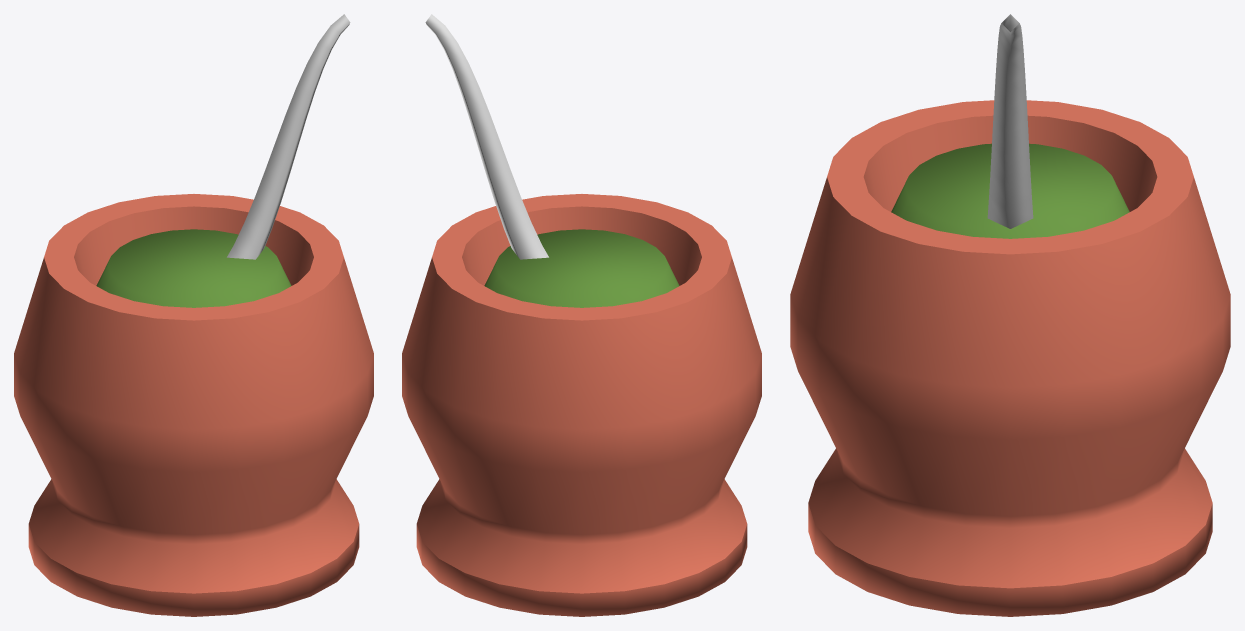
Rendered from mateBase.glb.
The picture shows the model from 3 angles, left to right: view 1: azimuth 30°, elevation 25°; view 2: azimuth 150°, elevation 25°; view 3: azimuth 270°, elevation 25°; orthographic projection. The views are drawn at different scales.
Visible parts, largest first — view 1: Cylinder.001; view 2: Cylinder.001; view 3: Cylinder.001.
Part boxes in pixels (x1,y1,x2,y2): Cylinder.001: (14,14,373,616); Cylinder.001: (402,14,761,616); Cylinder.001: (790,14,1230,616).
Bounding box in the file's own units: 0.1193 × 0.1816 × 0.1193.
